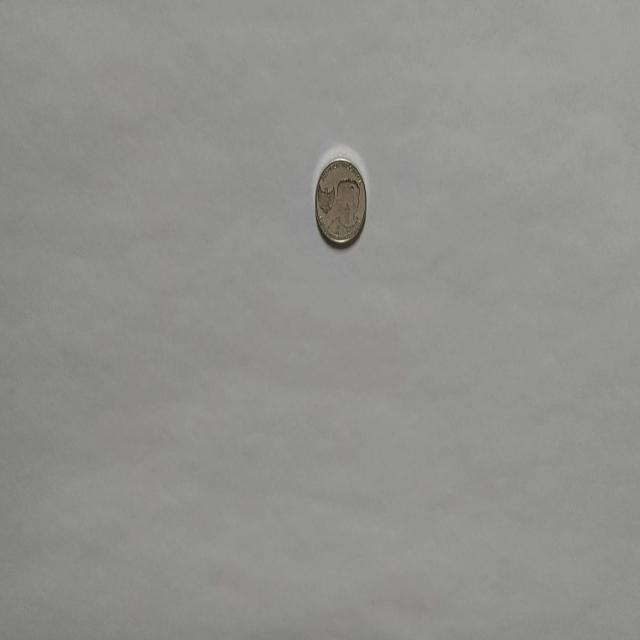seratus rupiah: (314, 156, 366, 247)
